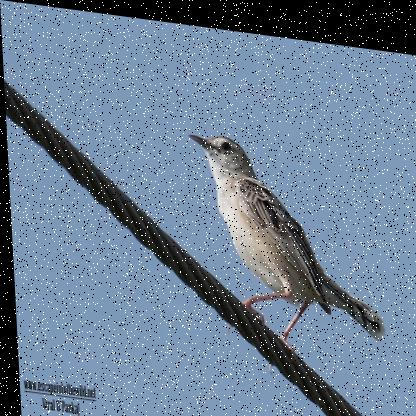Burung: (188, 127, 384, 380)
